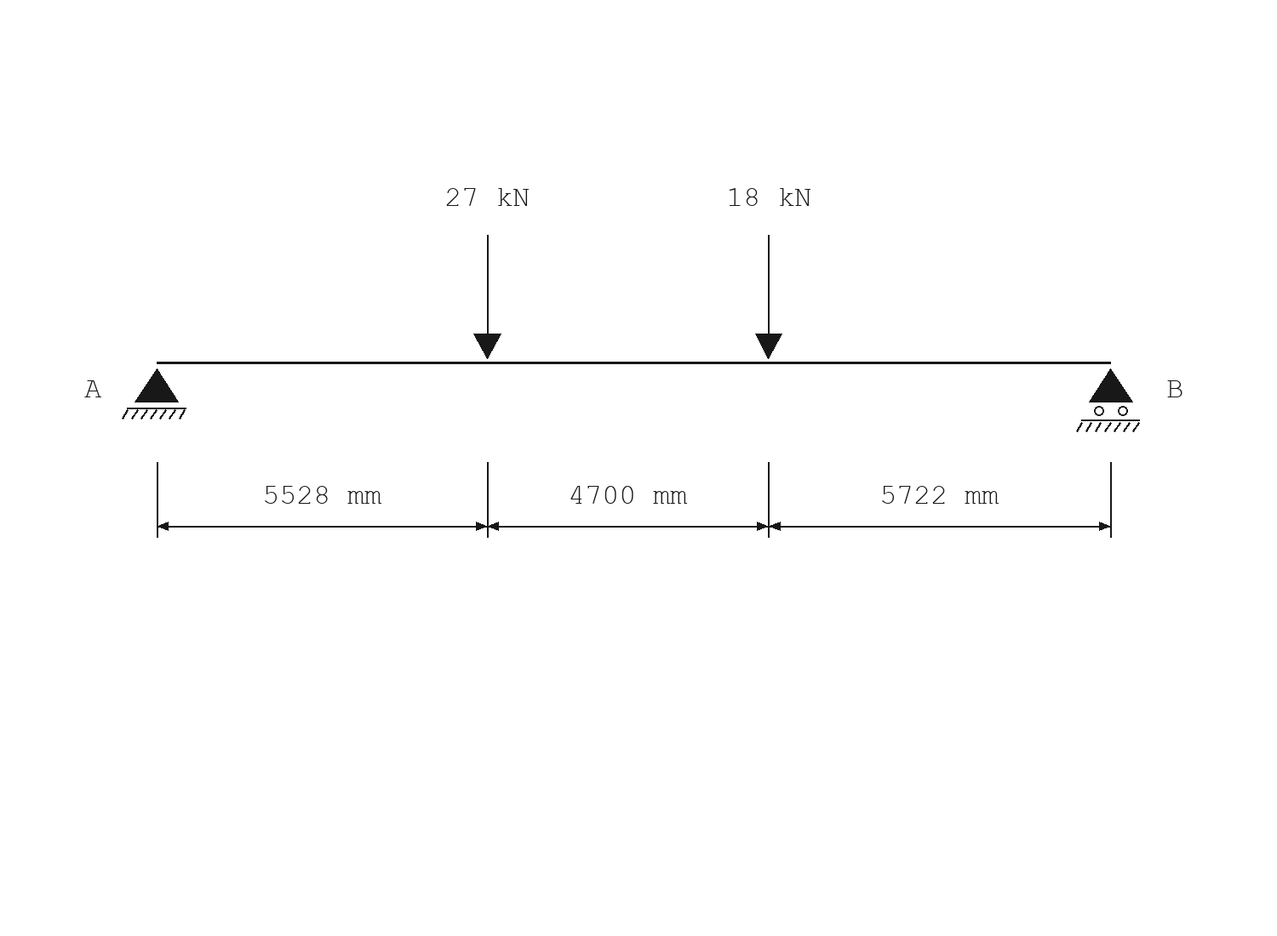pin_support: (122, 368, 186, 419)
point_load: (473, 235, 501, 359), (755, 235, 782, 359)
roller_support: (1076, 368, 1140, 432)
